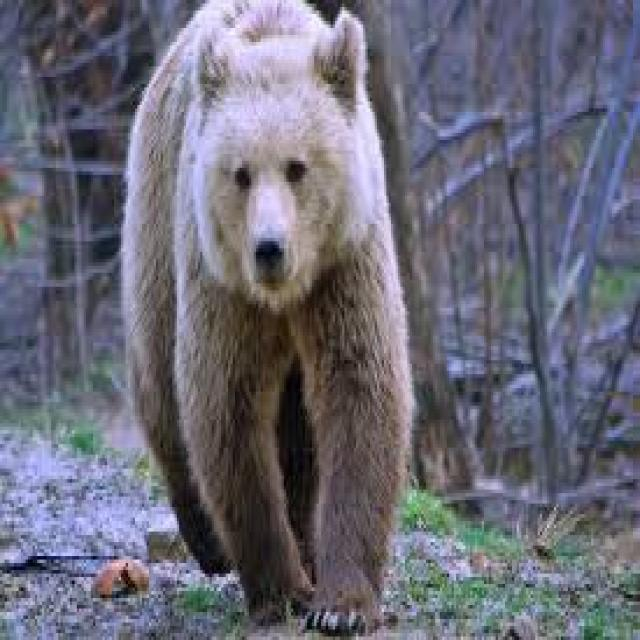bear: (93, 0, 528, 609)
